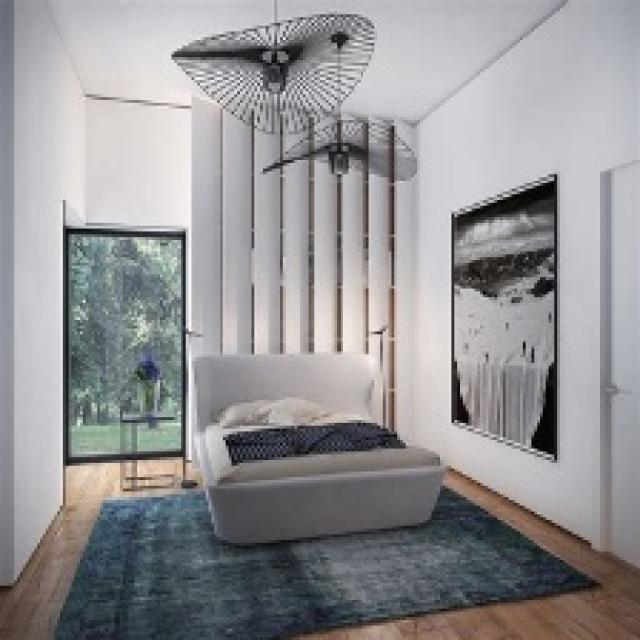Bed: (188, 348, 446, 546)
